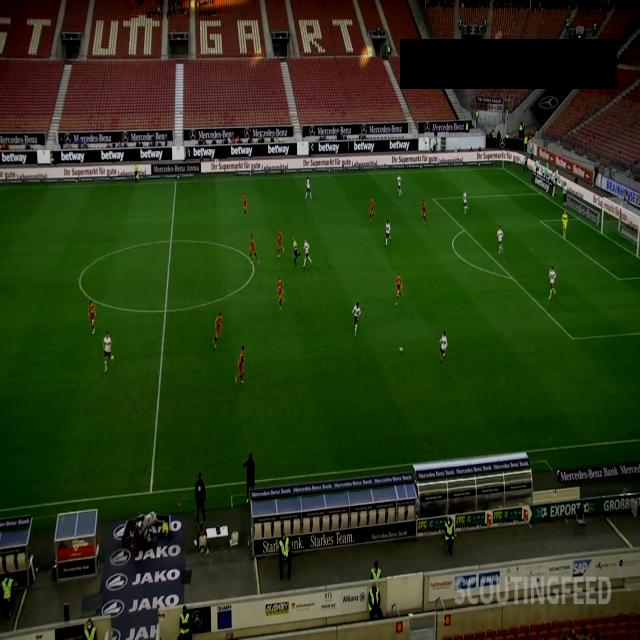ball: (398, 344, 407, 358)
f_player: (102, 332, 114, 374), (235, 348, 248, 385), (352, 300, 363, 336), (547, 264, 557, 300), (216, 314, 226, 348), (248, 235, 260, 262), (438, 330, 448, 362), (395, 276, 405, 306), (276, 278, 284, 312), (88, 302, 97, 332), (302, 240, 312, 266), (498, 225, 506, 253), (383, 220, 391, 247), (276, 230, 284, 256), (560, 212, 568, 237), (368, 198, 376, 222), (420, 200, 428, 223), (462, 190, 470, 213), (397, 177, 405, 199), (304, 179, 312, 201), (241, 194, 248, 216)
umpire: (292, 235, 302, 268), (134, 163, 142, 183)
